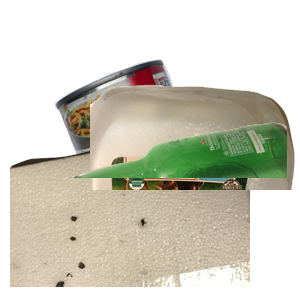glass: (60, 120, 300, 300)
metal: (52, 57, 260, 237)
plastic: (90, 82, 300, 262)
trash: (10, 120, 250, 300)
